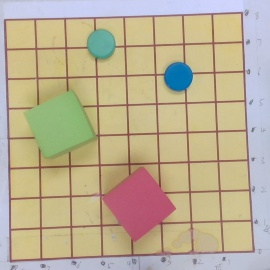blue: (163, 62, 193, 92)
green: (86, 29, 115, 59)
